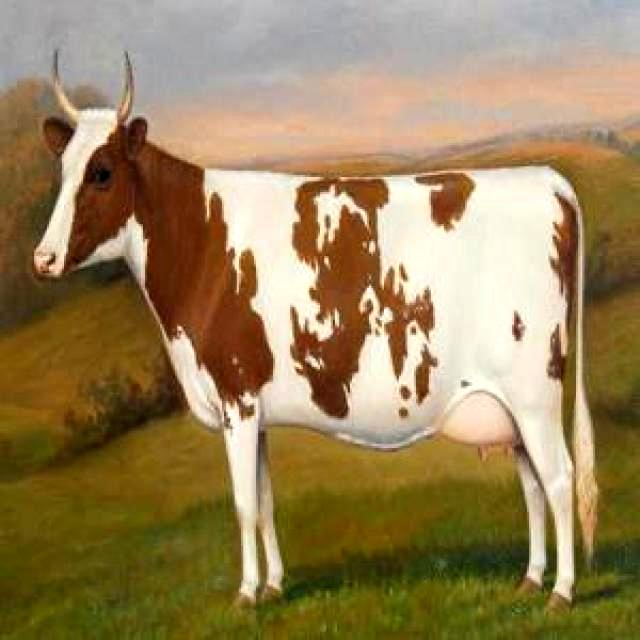COW: (35, 60, 596, 601)
